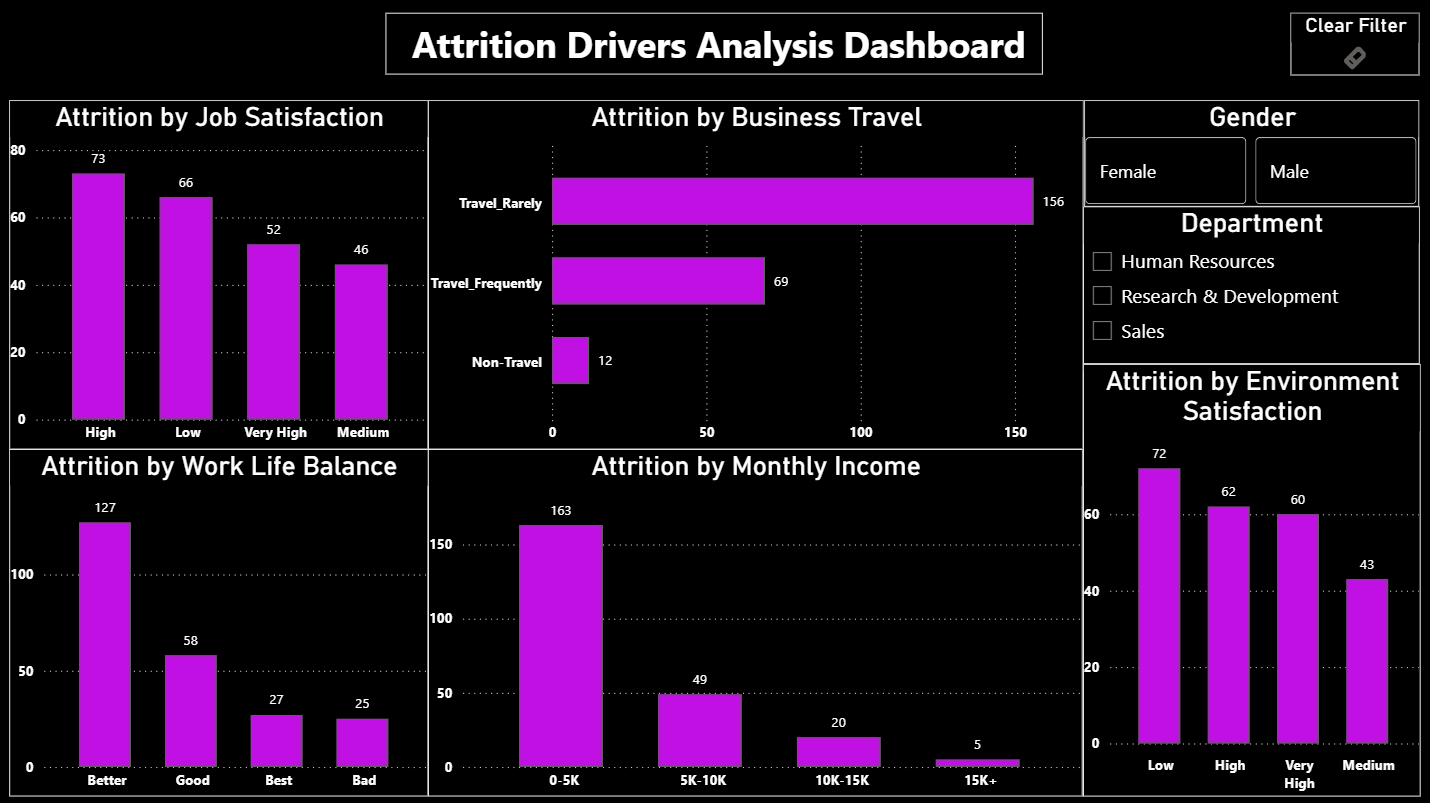

The page's visual inventory and layout, read from the dashboard file:
{"tool":"powerbi","page":{"name":"Attrition Drivers Analysis","canvas":[1280,720],"ordinal":1},"visuals":[{"type":"textbox","box":[345.8,12,587.2,55.2],"z":0},{"type":"clusteredColumnChart","title":"Attrition by Job Satisfaction","fields":{"Y":["CountNonNull(HR_Attrition_Raw.EmployeeNumber)"],"Category":["HR_Attrition_Raw.Job Satisfaction Level"]},"box":[9.7,90.4,374.3,311.7],"z":1000},{"type":"clusteredColumnChart","title":"Attrition by Work Life Balance","fields":{"Y":["CountNonNull(HR_Attrition_Raw.EmployeeNumber)"],"Category":["HR_Attrition_Raw.Work Life Balance Level"]},"box":[10,402,374.1,310.4],"z":2000},{"type":"clusteredBarChart","title":"Attrition by Business Travel","fields":{"Category":["HR_Attrition_Raw.BusinessTravel"],"Y":["CountNonNull(HR_Attrition_Raw.EmployeeNumber)"]},"box":[384,90.4,585.7,311.7],"z":3000},{"type":"clusteredColumnChart","title":"Attrition by Monthly Income","fields":{"Y":["CountNonNull(HR_Attrition_Raw.EmployeeNumber)"],"Category":["HR_Attrition_Raw.Income Band"]},"box":[384.1,402,585.1,310.4],"z":4000},{"type":"clusteredColumnChart","title":"Attrition by Environment Satisfaction","fields":{"Y":["CountNonNull(HR_Attrition_Raw.EmployeeNumber)"],"Category":["HR_Attrition_Raw.Environment Satisfaction Level"]},"box":[969.2,326.1,301.5,386.4],"z":5000},{"type":"slicer","title":"Department","fields":{"Values":["HR_Attrition_Raw.Department"]},"box":[969.7,185,300.5,140.5],"z":6000},{"type":"advancedSlicerVisual","fields":{"Values":["HR_Attrition_Raw.Gender"]},"box":[970.4,90.4,299.3,94.9],"z":7000},{"type":"actionButton","title":"Clear Filter","box":[1154.8,12.5,115.5,55.7],"z":8000}]}

Visuals, with their boxes in screenshot pixels (x1, y1, x2, y2), scaled from the page's 1280x720 canvas onto the 1430x803 screenshot:
textbox: detection(386, 13, 1042, 75)
"Attrition by Job Satisfaction" clusteredColumnChart: detection(11, 101, 429, 448)
"Attrition by Work Life Balance" clusteredColumnChart: detection(11, 448, 429, 795)
"Attrition by Business Travel" clusteredBarChart: detection(429, 101, 1083, 448)
"Attrition by Monthly Income" clusteredColumnChart: detection(429, 448, 1083, 795)
"Attrition by Environment Satisfaction" clusteredColumnChart: detection(1083, 364, 1420, 795)
"Department" slicer: detection(1083, 206, 1419, 363)
advancedSlicerVisual - HR_Attrition_Raw.Gender: detection(1084, 101, 1418, 207)
"Clear Filter" actionButton: detection(1290, 14, 1419, 76)
